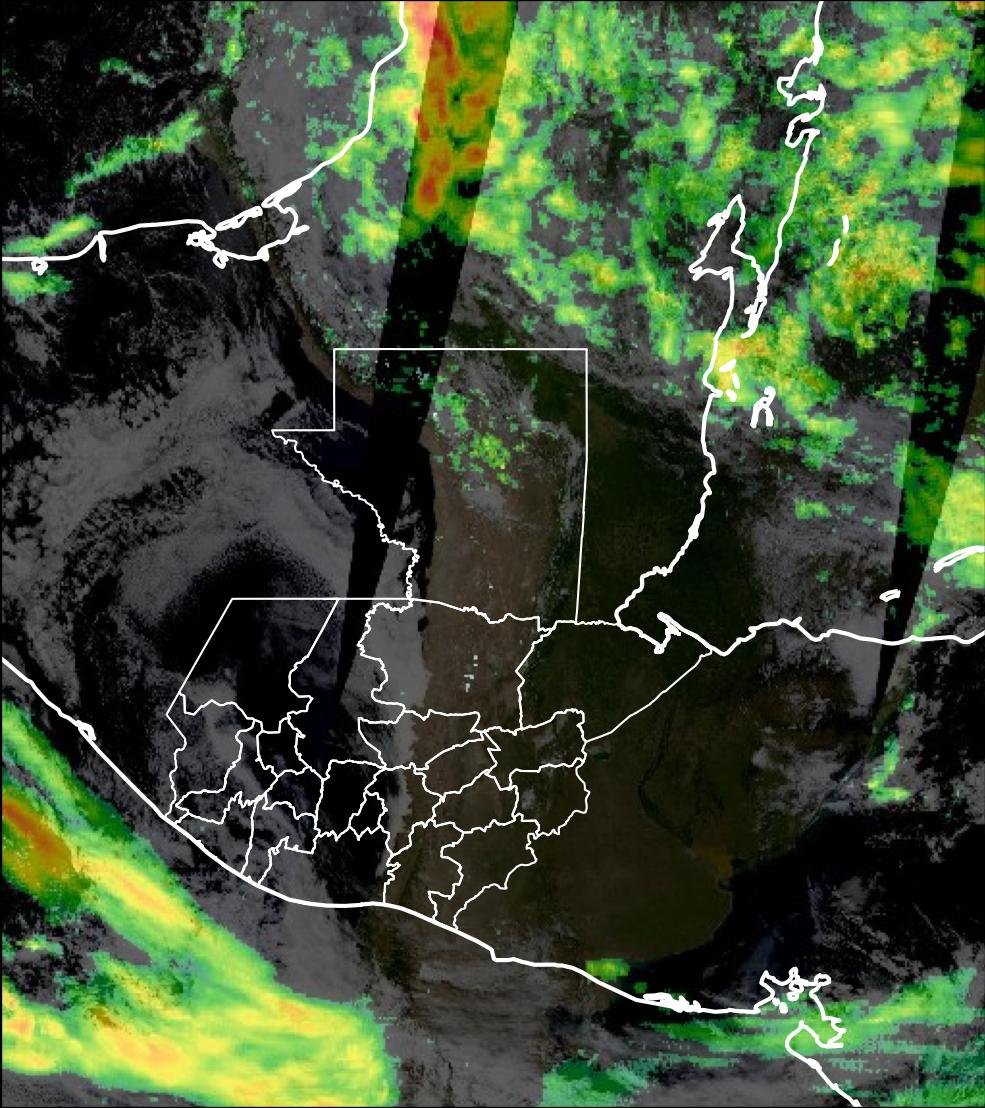precipitacion: (398, 1, 474, 202)
